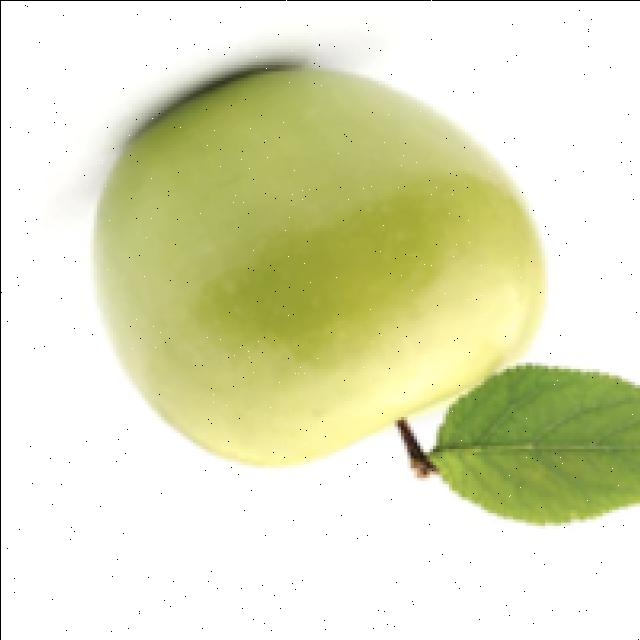apple: (63, 32, 640, 531)
